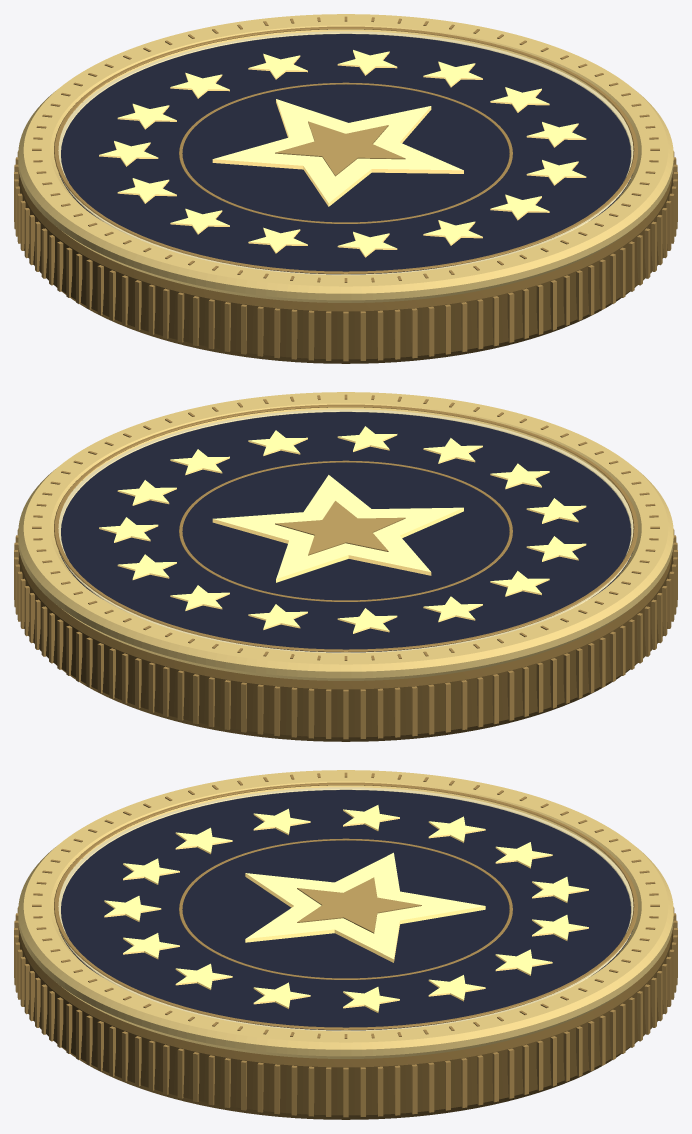
The model's file is perfect_15.glb.
3 renders of one model, top to bottom at view 1: azimuth 30°, elevation 25°; view 2: azimuth 150°, elevation 25°; view 3: azimuth 270°, elevation 25°, orthographic.
Parts seen in each view (by area): view 1: PB_Field, PB_RimRing, PB_Coin, PB_Reeding, PF_Stars, PF_BigStar, PB_RimLip, PB_InnerRing, PF_BigStarInset, PF_EmblemRing, PB_Ticks; view 2: PB_Field, PB_RimRing, PB_Coin, PB_Reeding, PF_Stars, PF_BigStar, PB_RimLip, PB_InnerRing, PF_BigStarInset, PF_EmblemRing, PB_Ticks; view 3: PB_Field, PB_RimRing, PB_Coin, PB_Reeding, PF_Stars, PF_BigStar, PB_RimLip, PB_InnerRing, PF_BigStarInset, PF_EmblemRing, PB_Ticks.
Boxes of the visible parts, left/top/right/bottom form: PB_Field: left=59, top=34, right=632, bottom=274; PB_RimRing: left=18, top=14, right=673, bottom=302; PB_Coin: left=18, top=174, right=673, bottom=363; PB_Reeding: left=14, top=151, right=677, bottom=361; PF_Stars: left=99, top=50, right=586, bottom=257; PF_BigStar: left=212, top=99, right=463, bottom=206; PB_RimLip: left=54, top=26, right=637, bottom=274; PB_InnerRing: left=58, top=31, right=633, bottom=275; PF_BigStarInset: left=275, top=121, right=405, bottom=176; PF_EmblemRing: left=179, top=82, right=512, bottom=223; PB_Ticks: left=32, top=16, right=659, bottom=282; PB_Field: left=59, top=412, right=632, bottom=652; PB_RimRing: left=18, top=392, right=673, bottom=680; PB_Coin: left=18, top=552, right=673, bottom=741; PB_Reeding: left=14, top=529, right=677, bottom=739; PF_Stars: left=99, top=426, right=586, bottom=633; PF_BigStar: left=212, top=475, right=463, bottom=582; PB_RimLip: left=54, top=404, right=637, bottom=652; PB_InnerRing: left=58, top=409, right=633, bottom=653; PF_BigStarInset: left=275, top=501, right=405, bottom=555; PF_EmblemRing: left=179, top=460, right=512, bottom=601; PB_Ticks: left=32, top=394, right=659, bottom=660; PB_Field: left=59, top=790, right=632, bottom=1030; PB_RimRing: left=18, top=770, right=673, bottom=1058; PB_Coin: left=18, top=930, right=673, bottom=1119; PB_Reeding: left=14, top=907, right=677, bottom=1117; PF_Stars: left=104, top=805, right=588, bottom=1012; PF_BigStar: left=245, top=852, right=485, bottom=962; PB_RimLip: left=54, top=782, right=637, bottom=1030; PB_InnerRing: left=58, top=787, right=633, bottom=1031; PF_BigStarInset: left=297, top=877, right=421, bottom=933; PF_EmblemRing: left=179, top=838, right=512, bottom=979; PB_Ticks: left=32, top=772, right=659, bottom=1038.
Bounding box in the file's own units: 0.039 × 0.0051 × 0.039.
